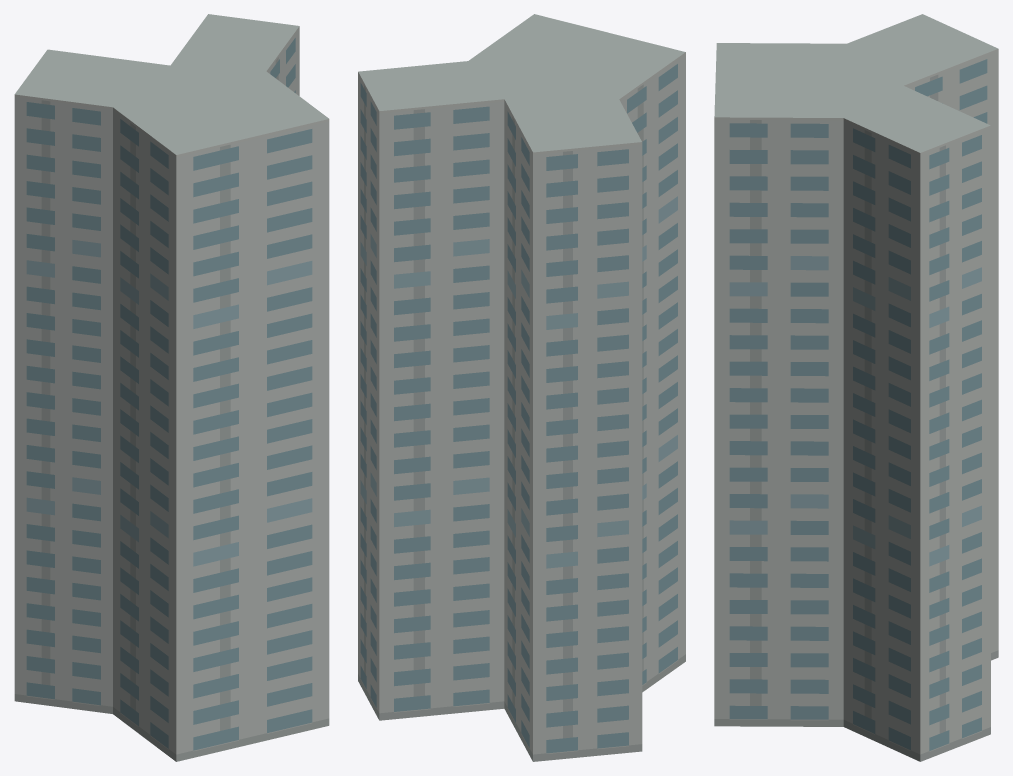
The model's file is residential-c25806fc-7245-4c6c-a3e2-8c5b326c89f8.glb.
The picture shows the model from 3 angles, left to right: view 1: azimuth 30°, elevation 25°; view 2: azimuth 150°, elevation 25°; view 3: azimuth 270°, elevation 25°; orthographic projection.
Parts seen in each view (by area): view 1: residential-c25806fc-7245-4c6c-a3e2-8c5b326c89f8.tmp; view 2: residential-c25806fc-7245-4c6c-a3e2-8c5b326c89f8.tmp; view 3: residential-c25806fc-7245-4c6c-a3e2-8c5b326c89f8.tmp.
Boxes of the visible parts, left/top/right/bottom form: residential-c25806fc-7245-4c6c-a3e2-8c5b326c89f8.tmp: left=14, top=14, right=329, bottom=761; residential-c25806fc-7245-4c6c-a3e2-8c5b326c89f8.tmp: left=358, top=14, right=685, bottom=761; residential-c25806fc-7245-4c6c-a3e2-8c5b326c89f8.tmp: left=714, top=14, right=998, bottom=761.
Size of the model in its own units: 32.33 by 66 by 27.92.
